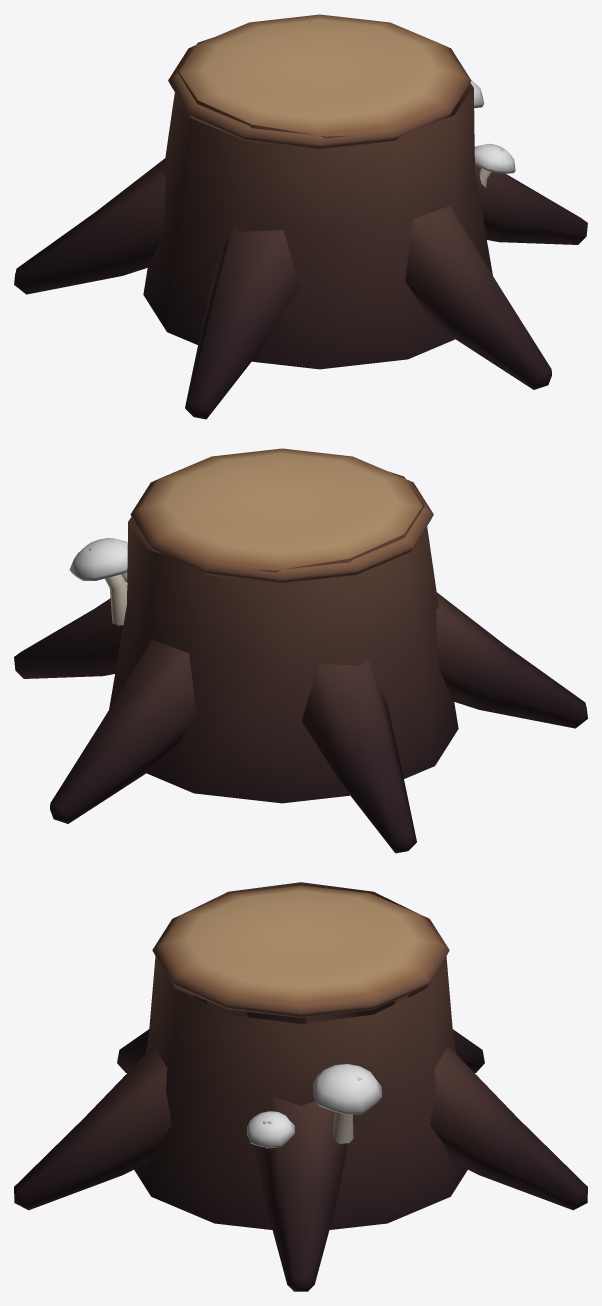
File: stump.glb
3 views of the same model, one above another, from view 1: azimuth 30°, elevation 25°; view 2: azimuth 150°, elevation 25°; view 3: azimuth 270°, elevation 25° (orthographic). The views are drawn at different scales.
Visible parts, largest first — view 1: stump_body, stump_glow; view 2: stump_body, stump_glow; view 3: stump_body, stump_glow.
Part boxes in pixels (x1,y1,x2,y2): stump_body: [14, 14, 587, 419]; stump_glow: [470, 80, 515, 173]; stump_body: [14, 448, 587, 853]; stump_glow: [69, 538, 127, 582]; stump_body: [14, 882, 587, 1291]; stump_glow: [247, 1064, 381, 1148].
Size of the model in its own units: 1.58 by 0.7407 by 1.66.
